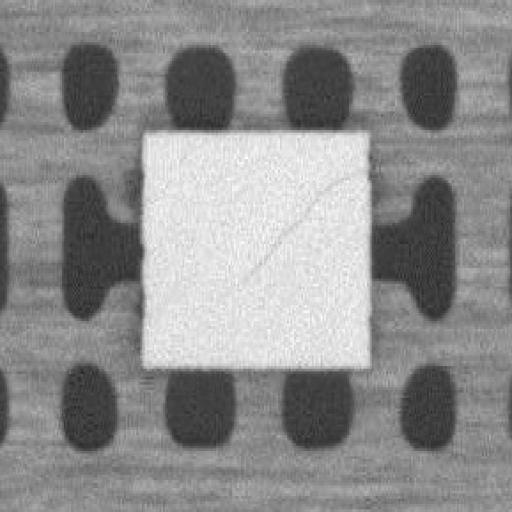DIE_CRACK: (227, 165, 363, 289)
